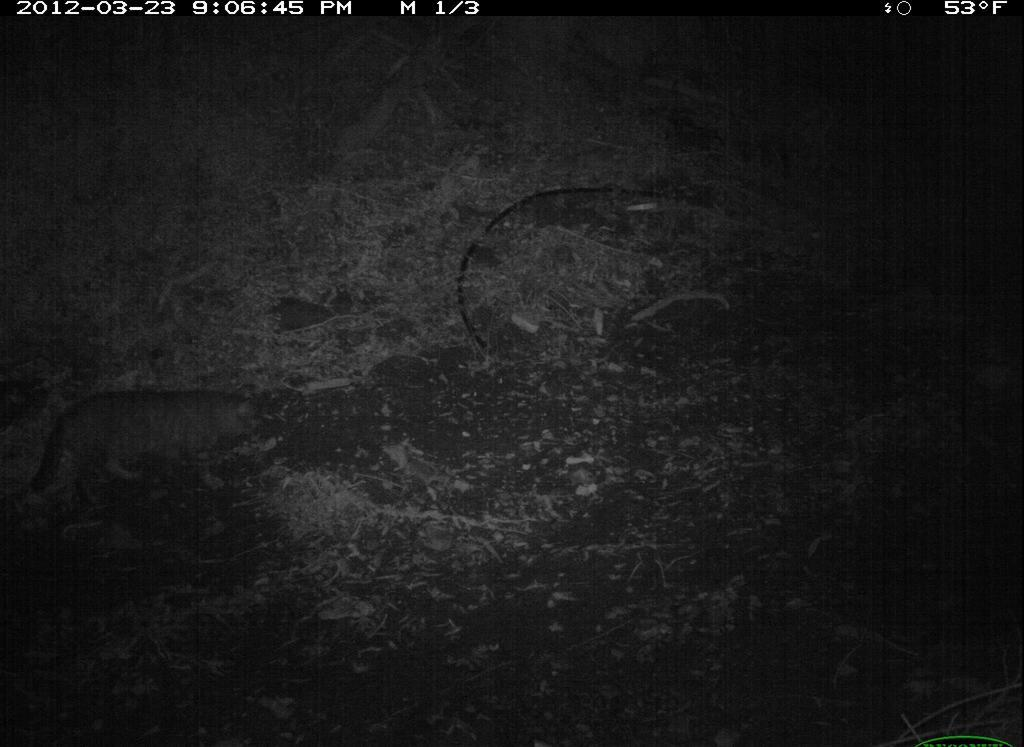cat: (27, 381, 263, 518)
